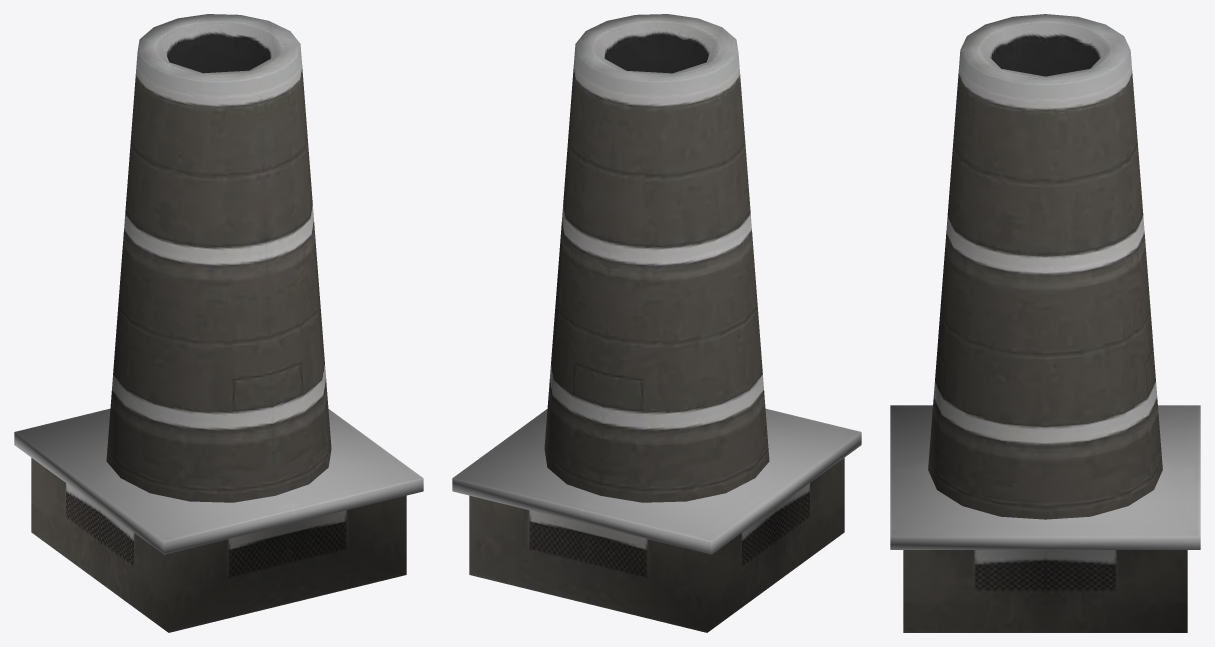
The model's file is Part - Tube 01-BwU9000p.glb.
3 views of the same model, side by side, from view 1: azimuth 30°, elevation 25°; view 2: azimuth 150°, elevation 25°; view 3: azimuth 270°, elevation 25° (orthographic). The views are drawn at different scales.
Parts seen in each view (by area): view 1: Tube_01, Tube_01_pad; view 2: Tube_01, Tube_01_pad; view 3: Tube_01, Tube_01_pad.
Boxes of the visible parts, x1=… form: Tube_01: x1=106, y1=14, x2=331, y2=502; Tube_01_pad: x1=14, y1=408, x2=423, y2=632; Tube_01: x1=544, y1=14, x2=769, y2=502; Tube_01_pad: x1=452, y1=408, x2=861, y2=632; Tube_01: x1=928, y1=14, x2=1162, y2=519; Tube_01_pad: x1=890, y1=405, x2=1200, y2=632.
Size of the model in its own units: 1.81 by 3.36 by 1.81.
1 material, 1 textured.
